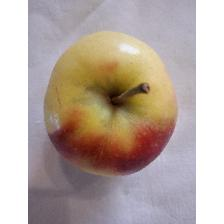Apfel: (42, 29, 180, 179)
